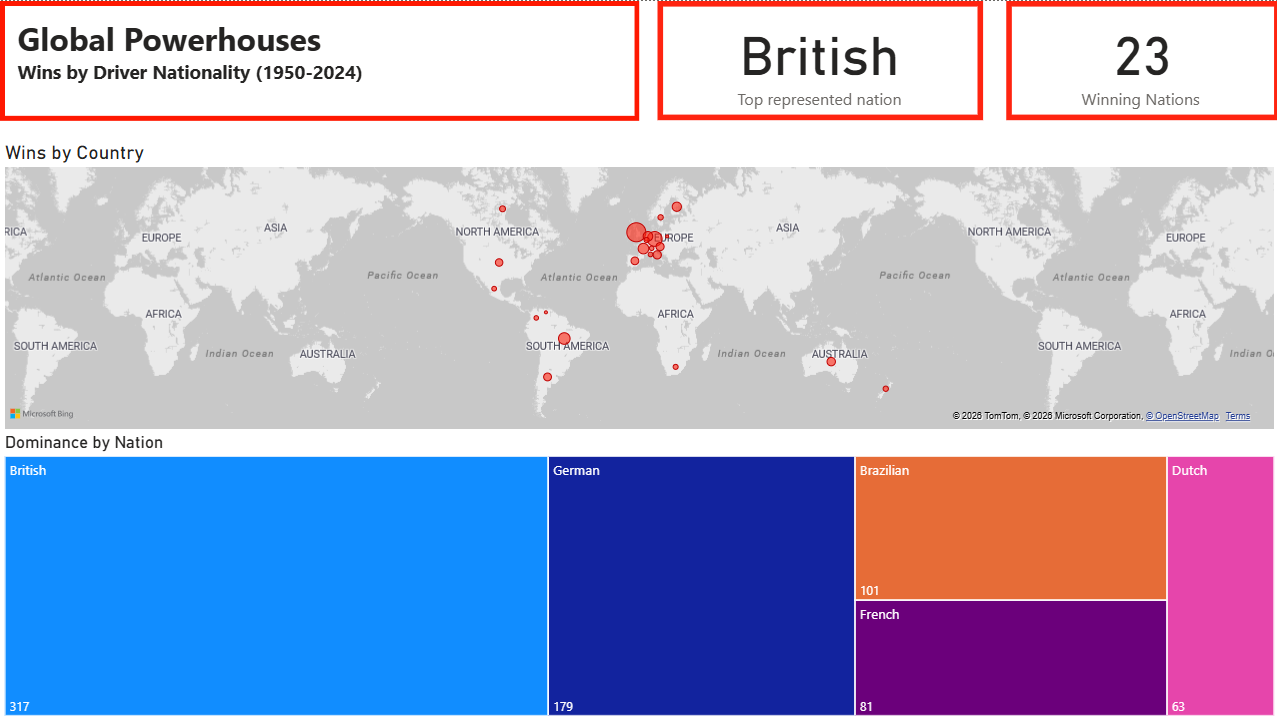

What the dashboard file says about the page in this screenshot:
{"tool":"powerbi","page":{"name":"Nations","canvas":[1280,720],"ordinal":2},"visuals":[{"type":"shape","box":[0,0,639.5,119.8],"z":0},{"type":"textbox","box":[12.2,11,615.1,95.4],"z":1000},{"type":"map","title":"Wins by Country","fields":{"Size":["Sum(Nationality wins.total_wins)"],"Category":["Nationality wins.country"]},"box":[0,139.4,1280.3,292.3],"z":1001},{"type":"treemap","title":"Dominance by Nation","fields":{"Values":["Sum(Nationality wins.total_wins)"],"Group":["Nationality wins.driver_nationality"]},"box":[0,431.7,1280.3,288.6],"z":1002},{"type":"card","fields":{"Values":["Min(Nationality wins.driver_nationality)"]},"box":[657.3,0,325.2,119.4],"z":1003},{"type":"card","fields":{"Values":["CountNonNull(Nationality wins.driver_nationality)"]},"box":[1005.8,0,274.4,119.4],"z":1004}]}

Visuals, with their boxes in screenshot pixels (x1, y1, x2, y2), scaled from the page's 1280x720 canvas onto the 1277x720 screenshot:
shape: bbox=(0, 0, 638, 120)
textbox: bbox=(12, 11, 626, 106)
"Wins by Country" map: bbox=(0, 139, 1276, 432)
"Dominance by Nation" treemap: bbox=(0, 432, 1276, 719)
card - Min(Nationality wins.driver_nationality): bbox=(656, 0, 980, 119)
card - CountNonNull(Nationality wins.driver_nationality): bbox=(1003, 0, 1276, 119)
